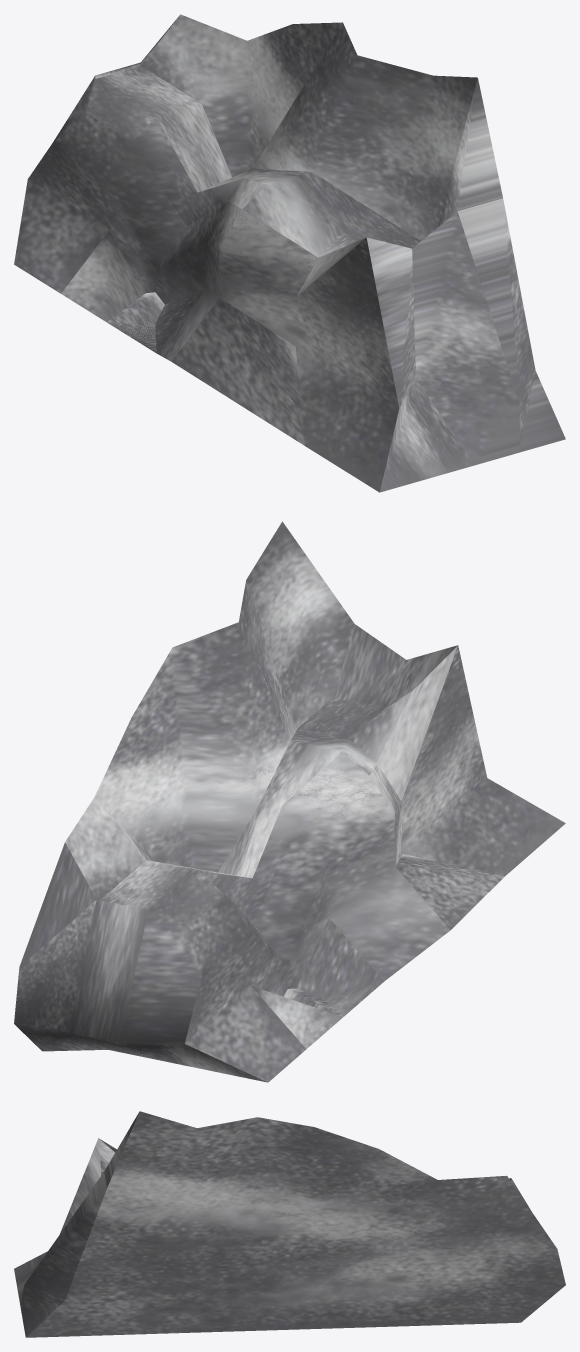
The model's file is Mountain17 - Level 1.FBX.
The picture shows the model from 3 angles, top to bottom: view 1: azimuth 30°, elevation 25°; view 2: azimuth 150°, elevation 25°; view 3: azimuth 270°, elevation 25°; orthographic projection. The views are drawn at different scales.
Visible parts, largest first — view 1: Mountain 17; view 2: Mountain 17; view 3: Mountain 17.
Part boxes in pixels (bbox=[...]): Mountain 17: bbox=[14, 14, 565, 492]; Mountain 17: bbox=[14, 521, 565, 1082]; Mountain 17: bbox=[14, 1111, 565, 1337].
Size of the model in its own units: 95.21 by 115 by 257.
1 material, 1 textured.
